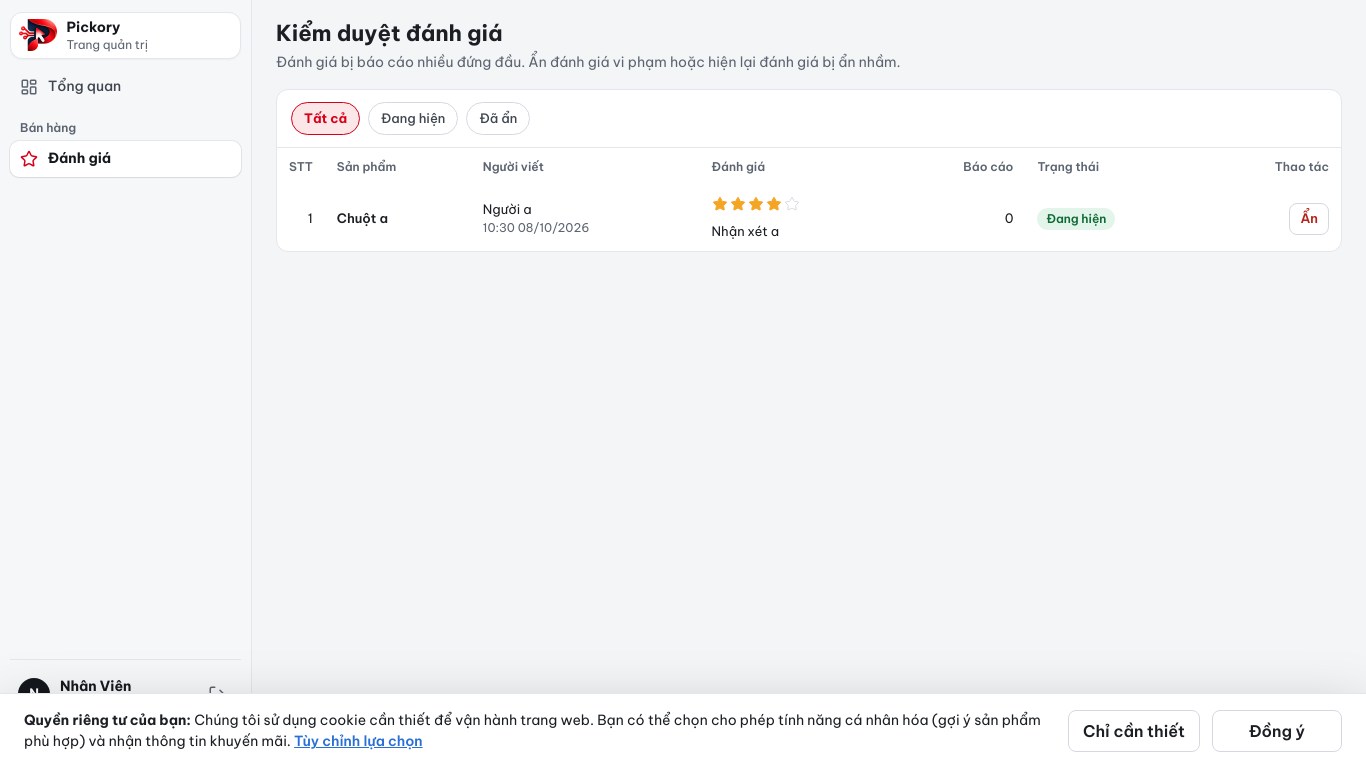
Test: AdminReviewsPage › ẩn: hộp thoại chỉ có 5 lý do ẩn, chưa chọn mà xác nhận thì báo Chọn lý do và không gửi
What coordinates should you click on to do the following:
click the button "Ẩn"
I would click on:
 (1309, 218)
Its box is [1290,202,1329,234].
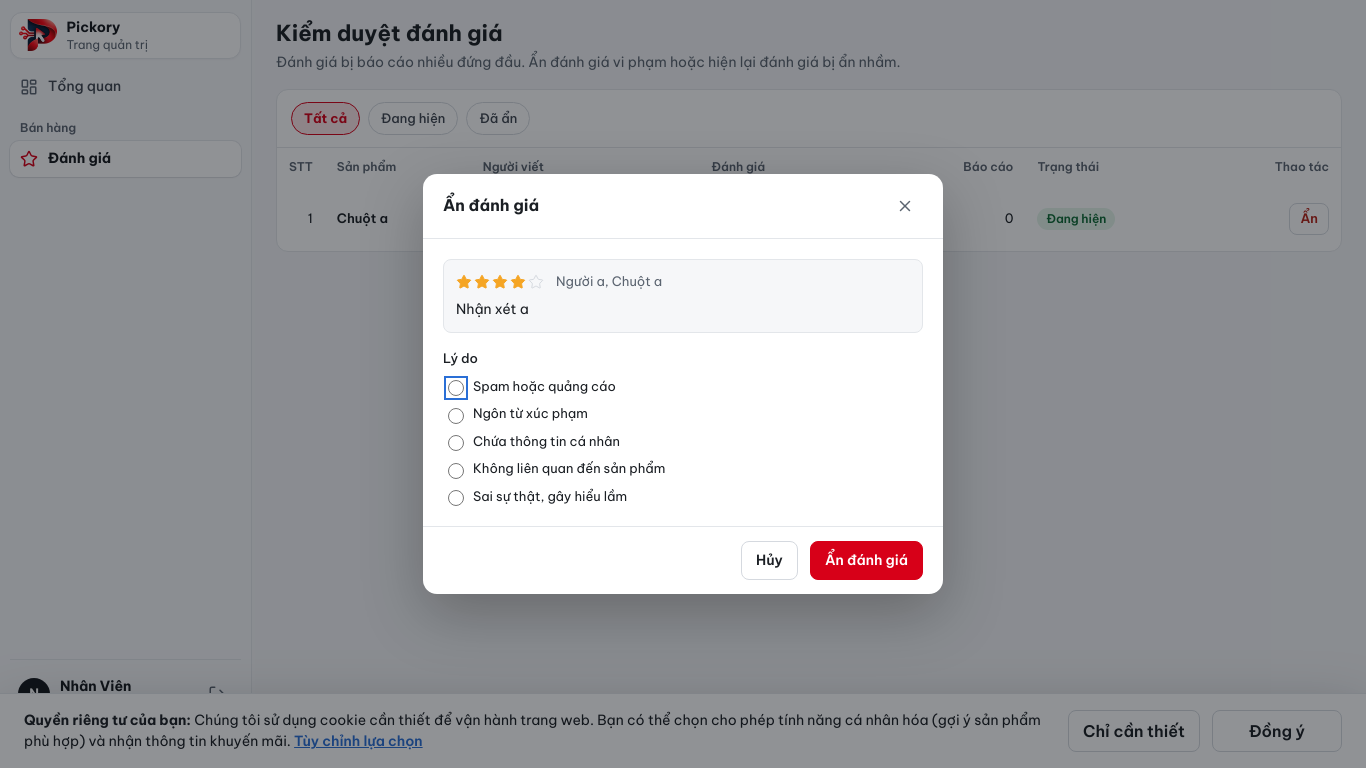
Now the dialog shows "Nhận xét a", box [456,300,529,318]
What coordinates should you click on to do the following:
click the button "Ẩn đánh giá"
I would click on:
 (866, 561)
Its box is [810,541,923,580].
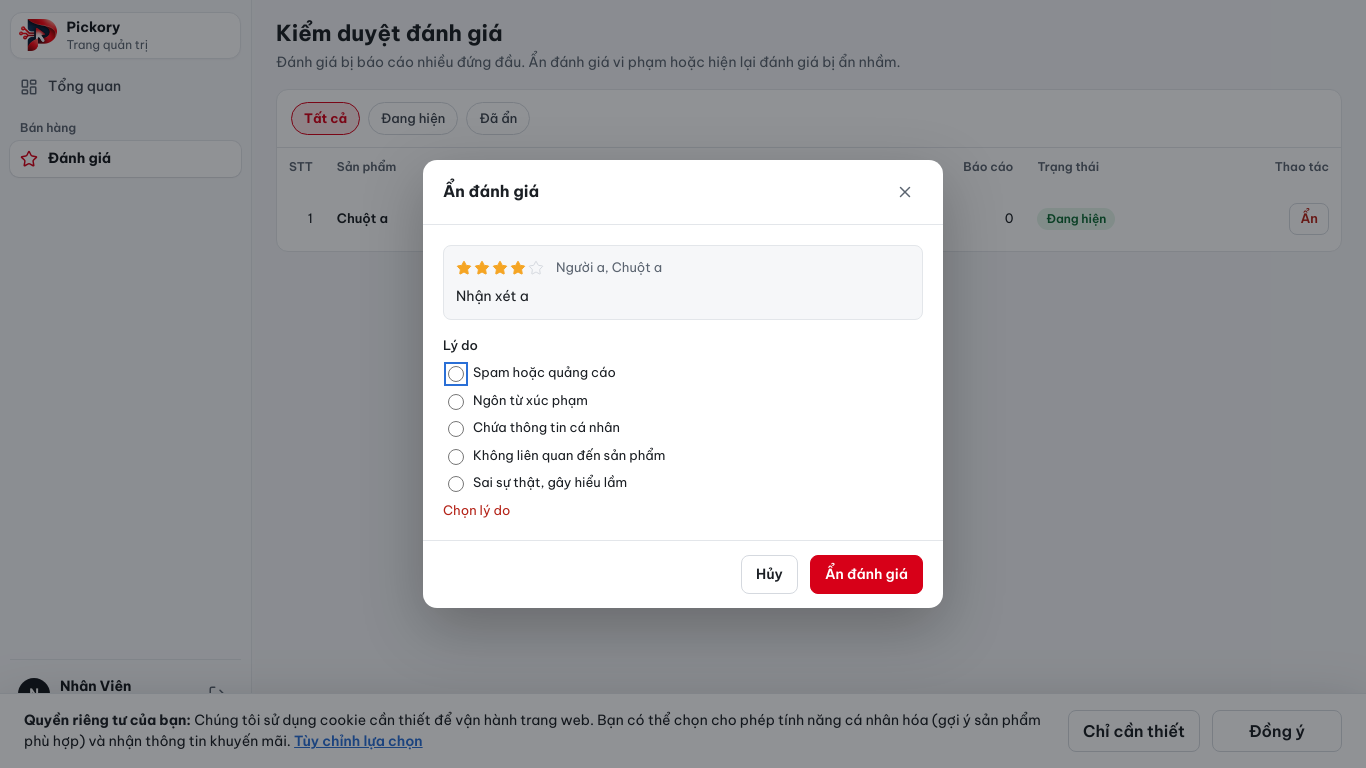
Now the dialog shows "Chọn lý do", box [443,502,510,518]
